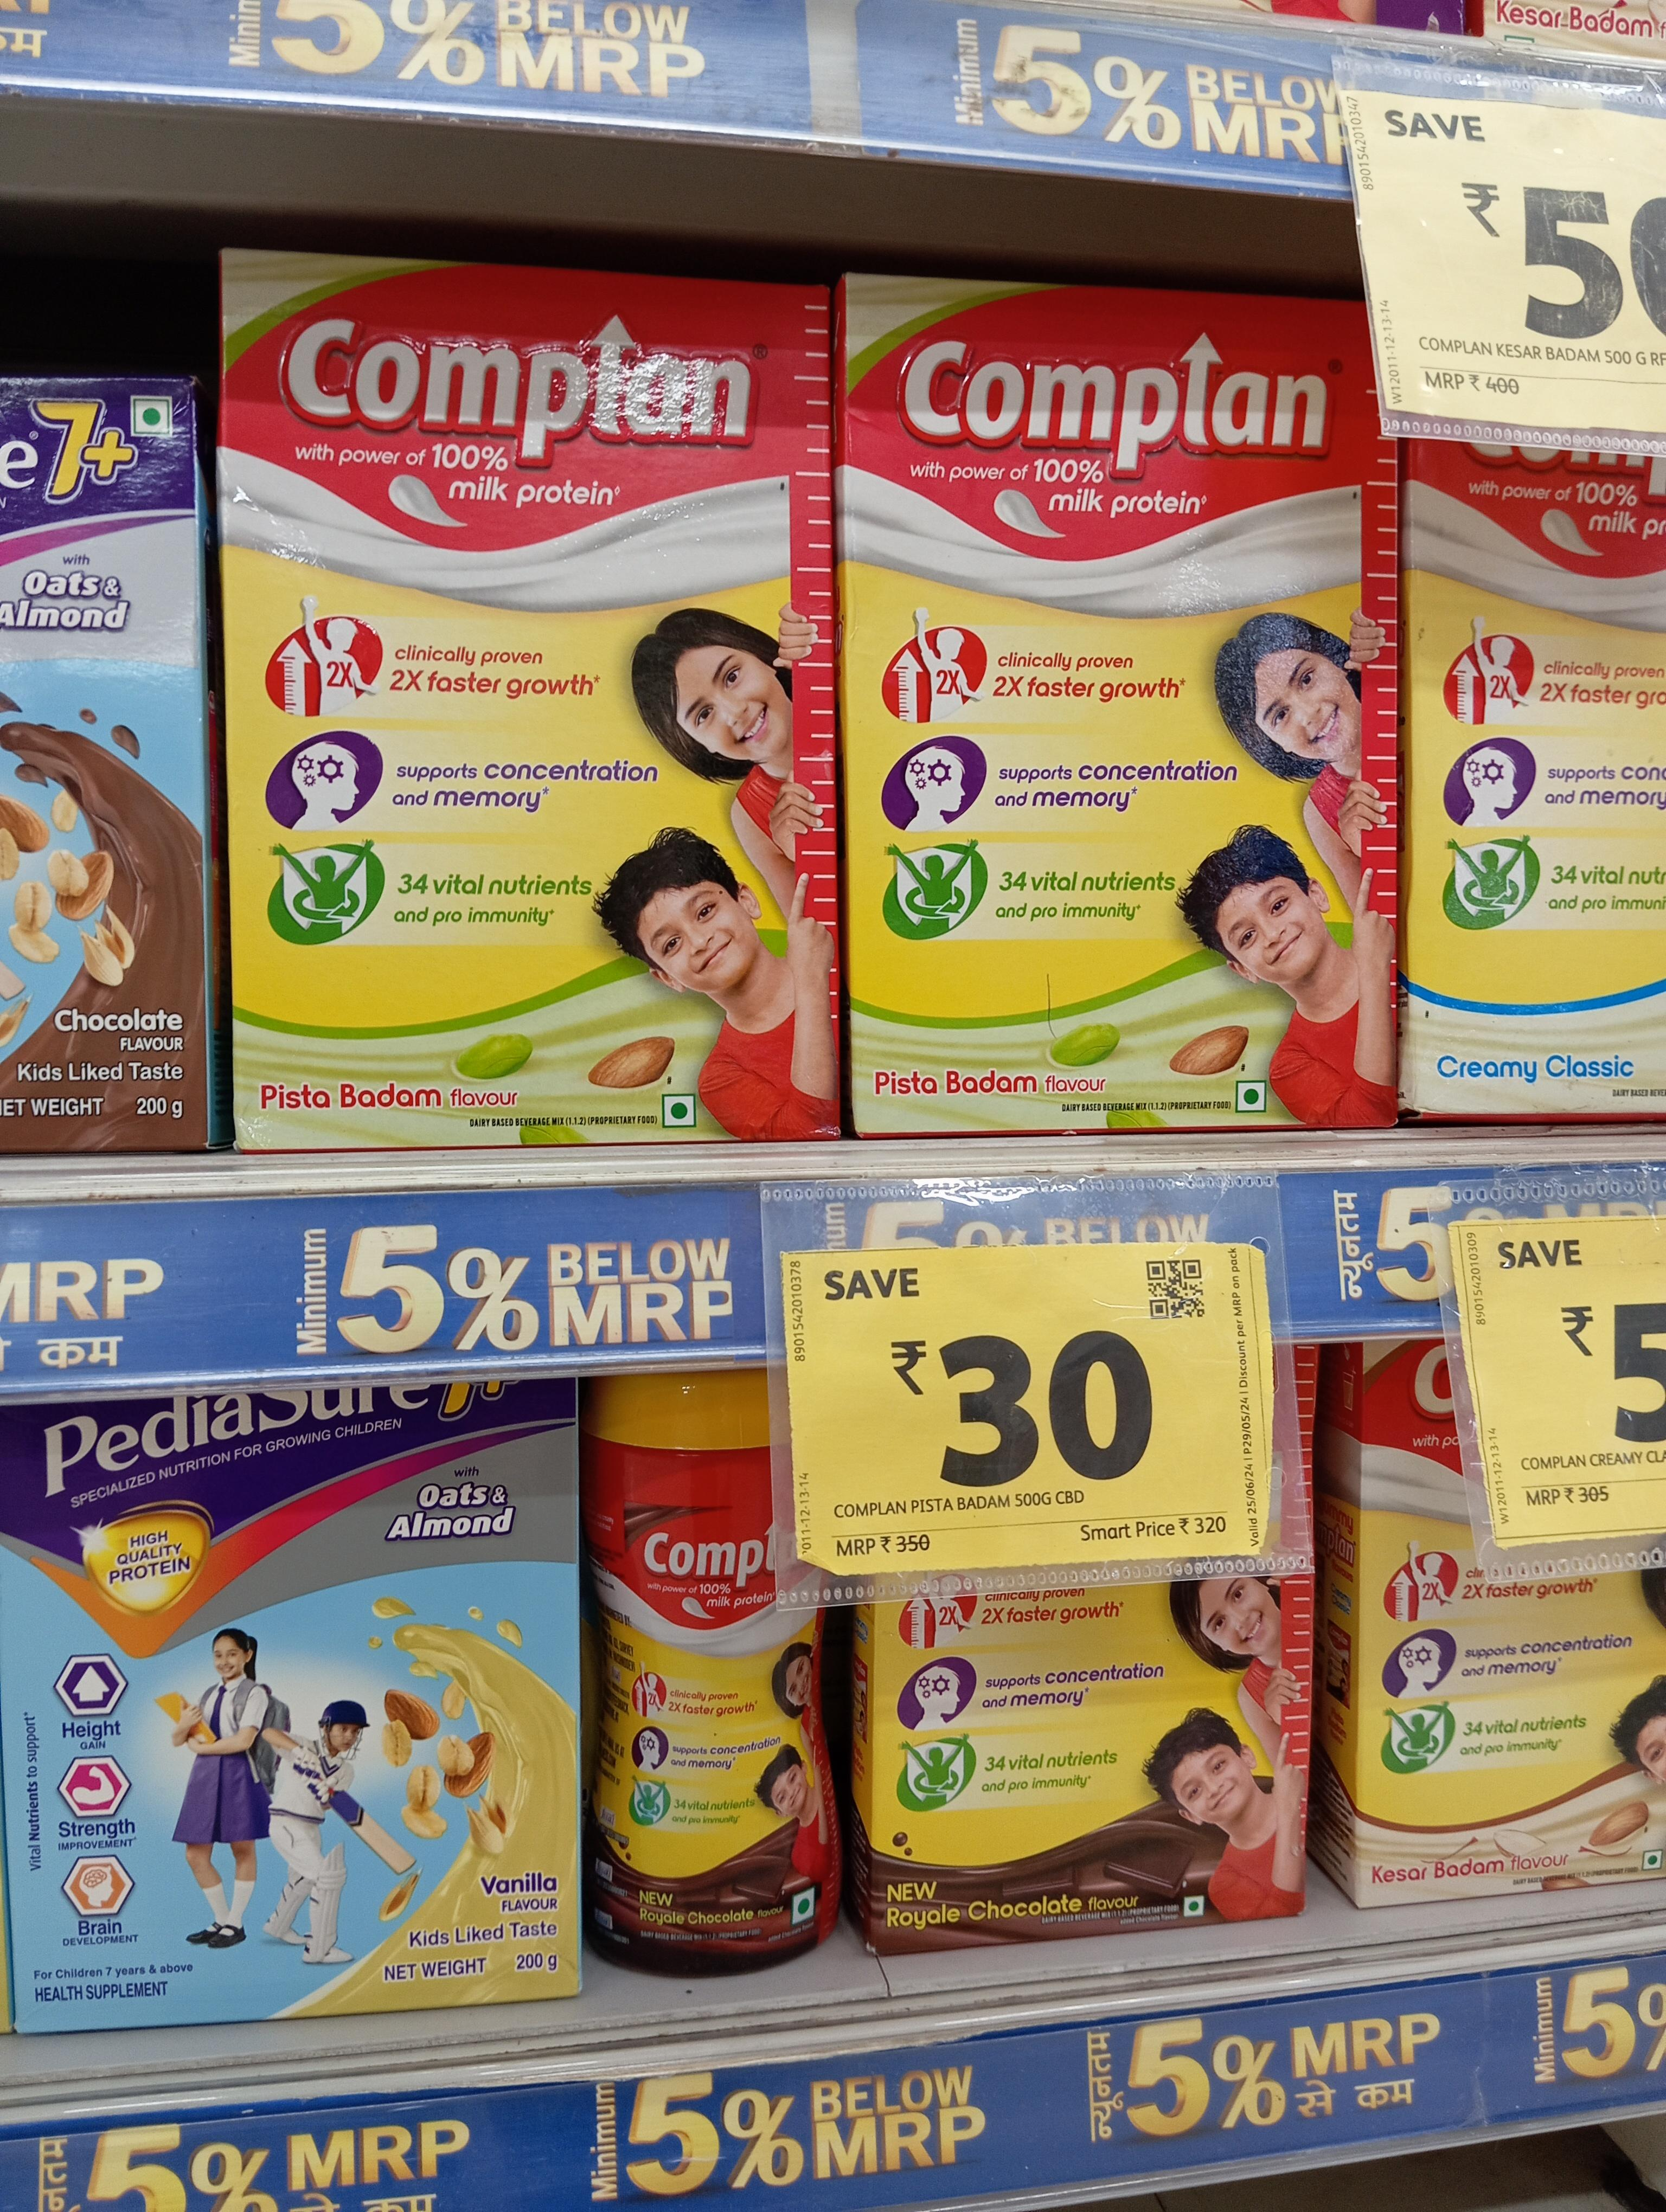COMPLAN_CHOCOLATE_200_GMS_JAR: (591, 1366, 831, 1981)
COMPLAN_CHOCOLATE_500_GMS_PACK: (878, 1567, 1325, 1936)
COMPLAN_PISTA_BADAM_500_GMS_PACK: (219, 248, 836, 1142), (856, 268, 1391, 1133)
